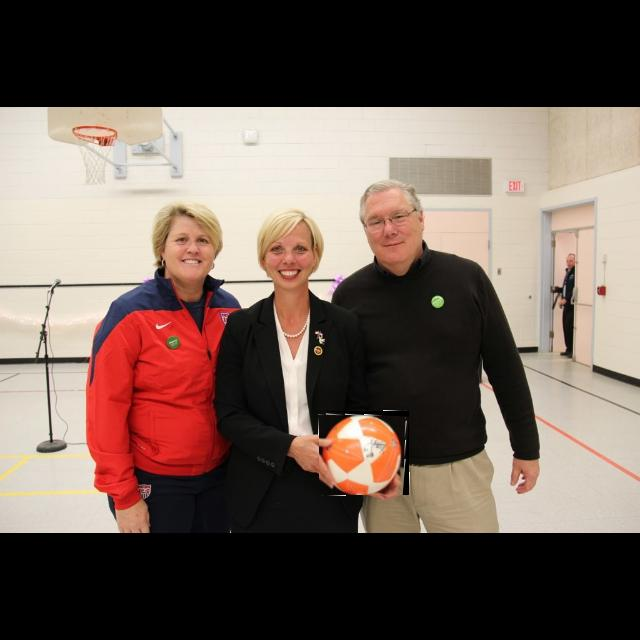Football: (319, 411, 409, 495)
